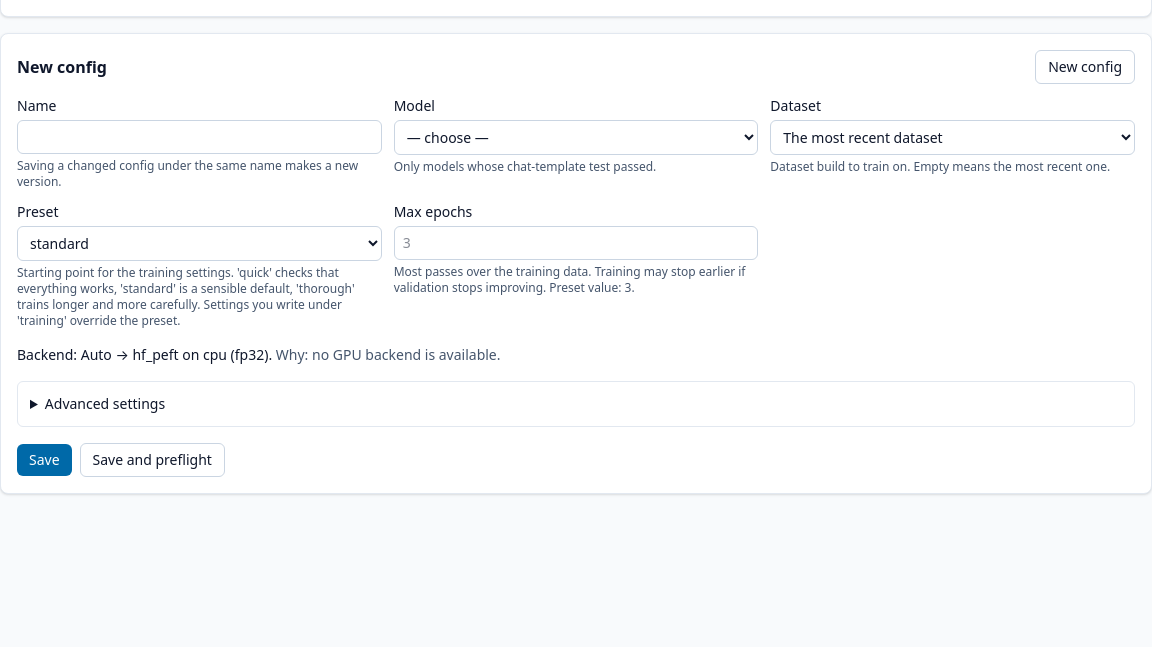
Test: Training config › saves only what the user changed and reports the version
The width and height of the screenshot is (1152, 647).
Expected: the text "Auto → hf_peft" is shown, x1=17 y1=345 x2=500 y2=364
In the field labelled "Name": point(199, 137) x1=17 y1=120 x2=382 y2=154, type "cfg"
Select "Tiny Qwen2 (test) (0.002B) — fits (estimate)" in the dropdown labelled "Model": point(576, 138) x1=394 y1=120 x2=758 y2=155
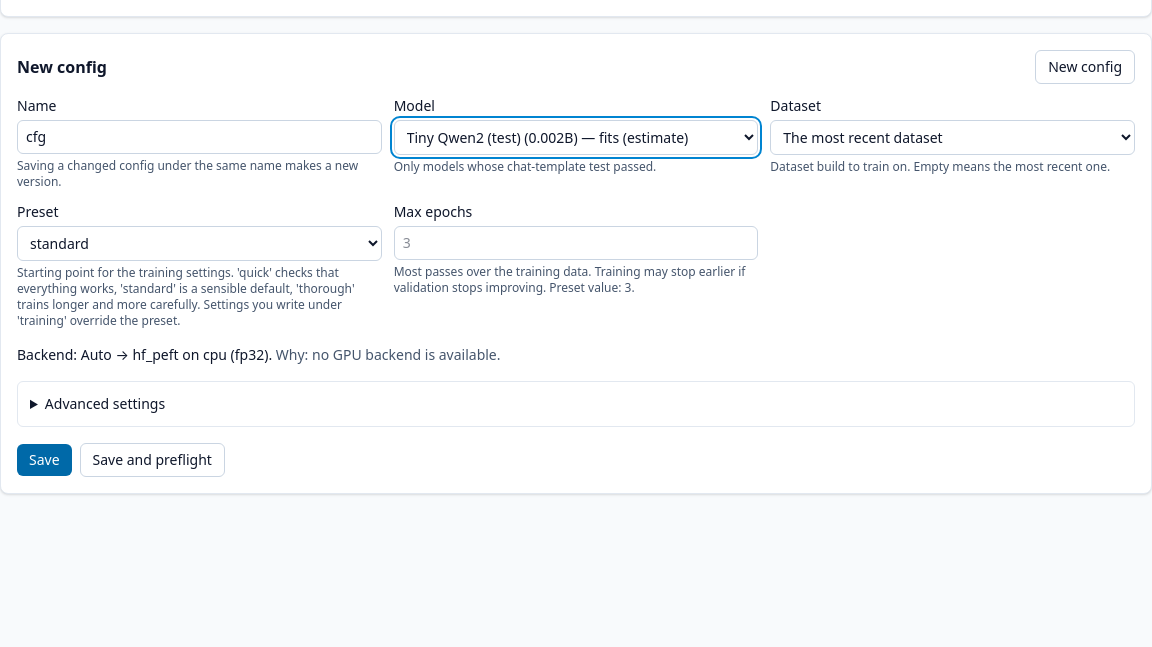
Select "quick" in the dropdown labelled "Preset": point(199, 244) x1=17 y1=226 x2=382 y2=261
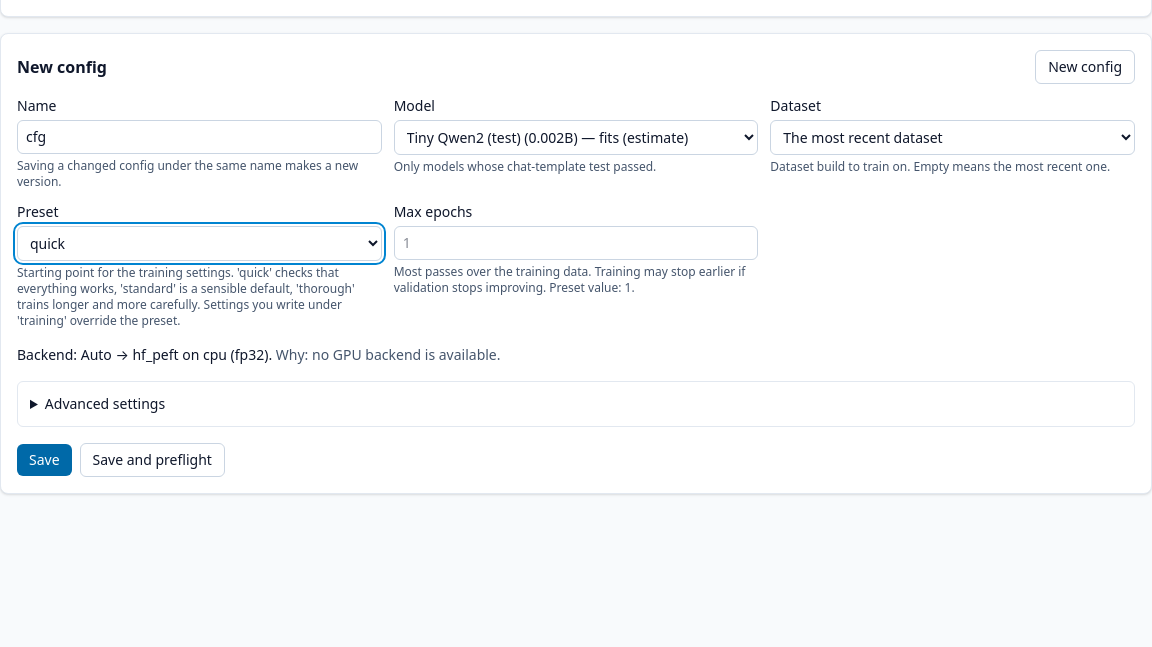
In the field labelled "Max epochs": point(576, 243) x1=394 y1=226 x2=758 y2=260, type "2"
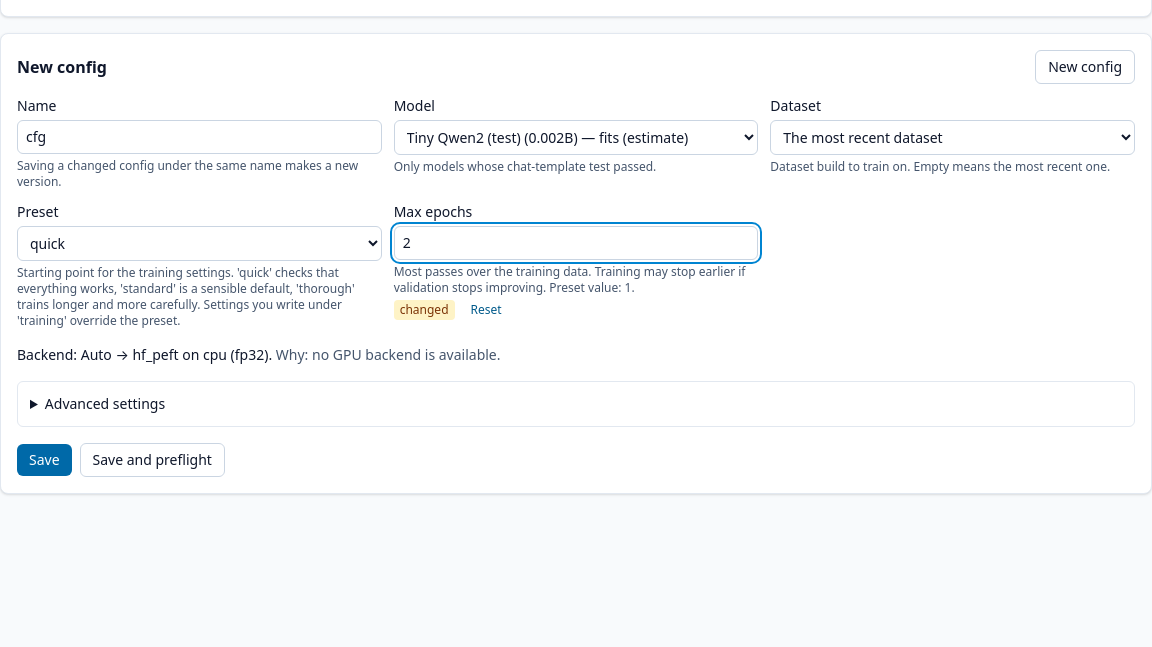
Click the heading "Advanced settings": point(105, 404) x1=45 y1=394 x2=165 y2=413
(page scrolled)
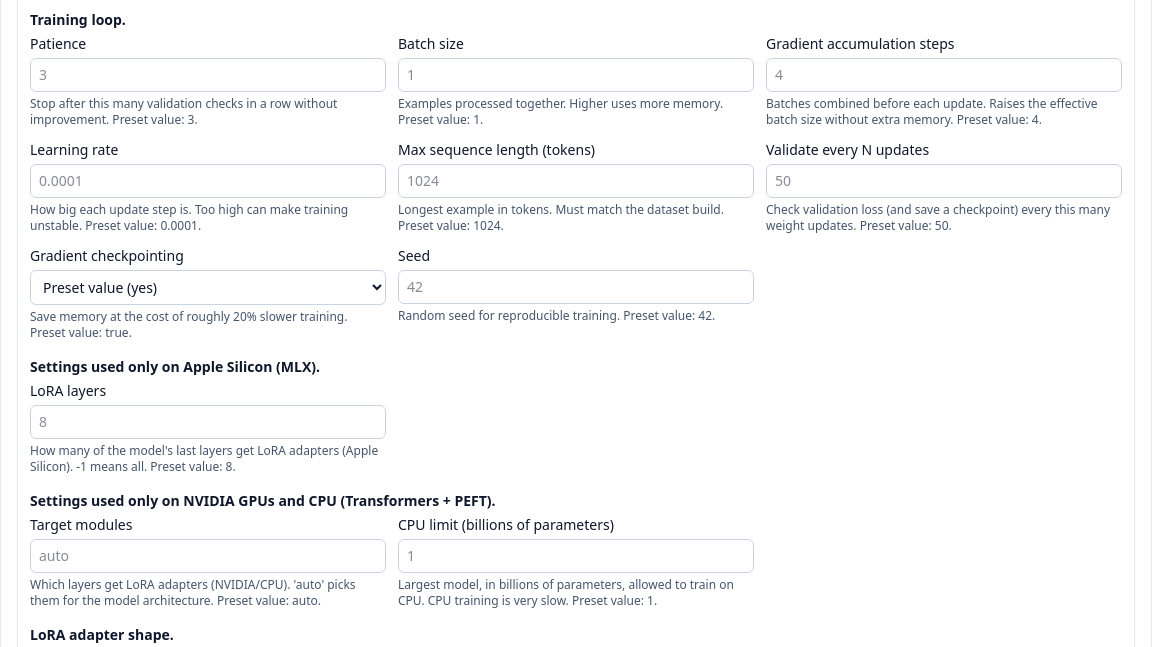
Select "no" in the dropdown labelled "Gradient checkpointing": point(208, 288) x1=30 y1=270 x2=386 y2=305
(page scrolled)
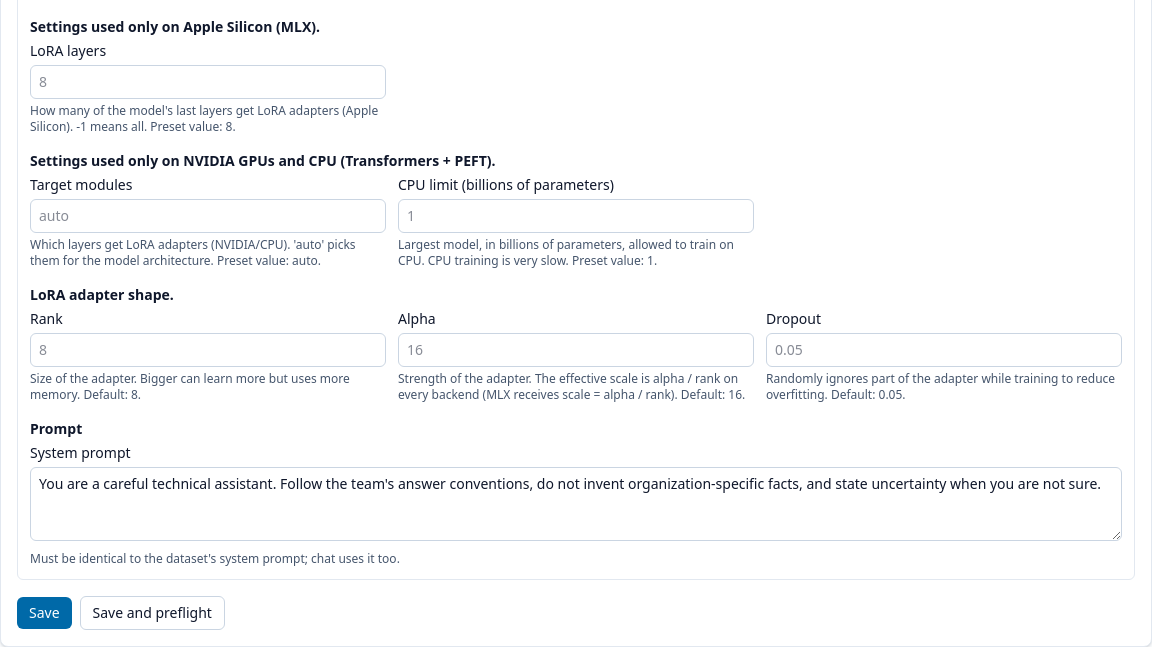
Click the button "Save": point(44, 613) x1=17 y1=597 x2=72 y2=629
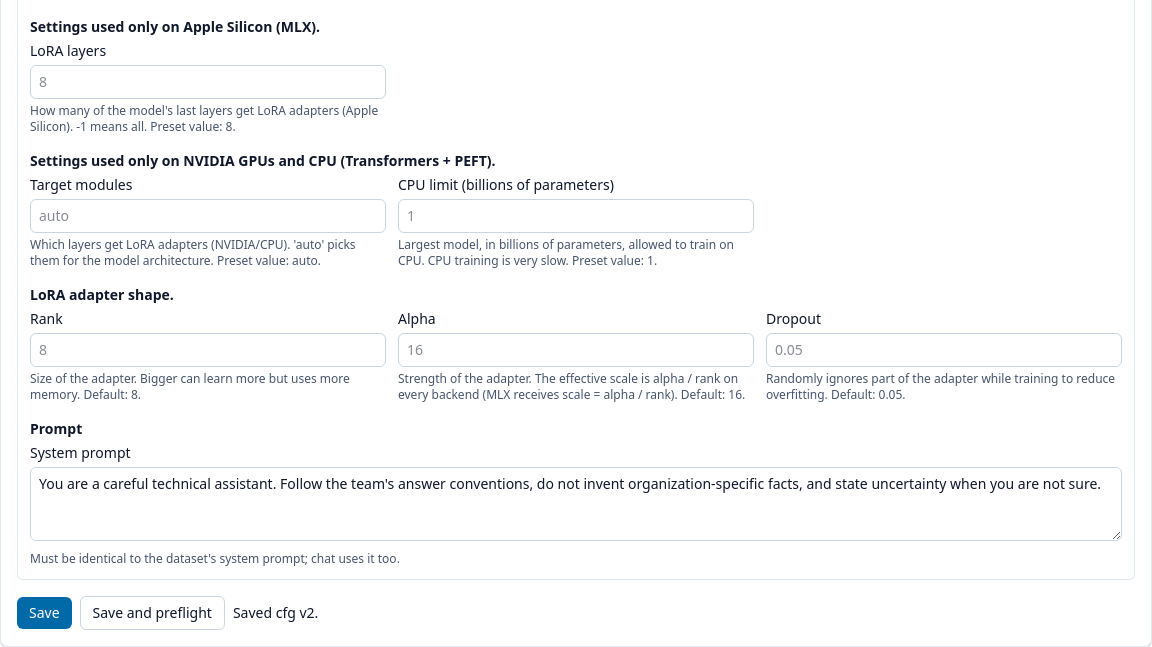
Now the text "Saved cfg v2." is shown, box x1=233 y1=603 x2=318 y2=623
